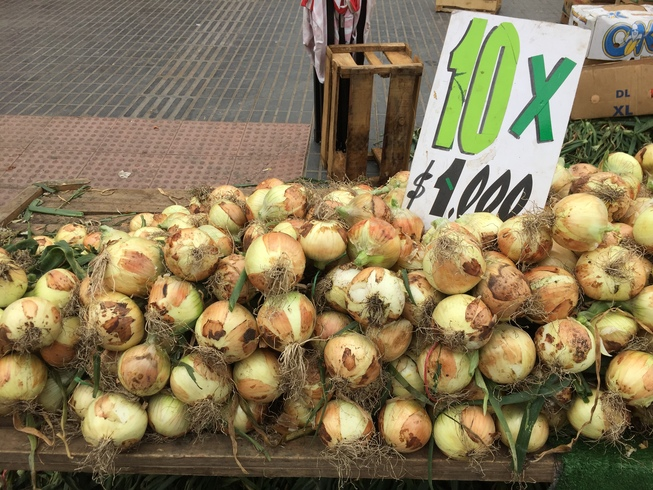precio: (399, 12, 600, 233)
